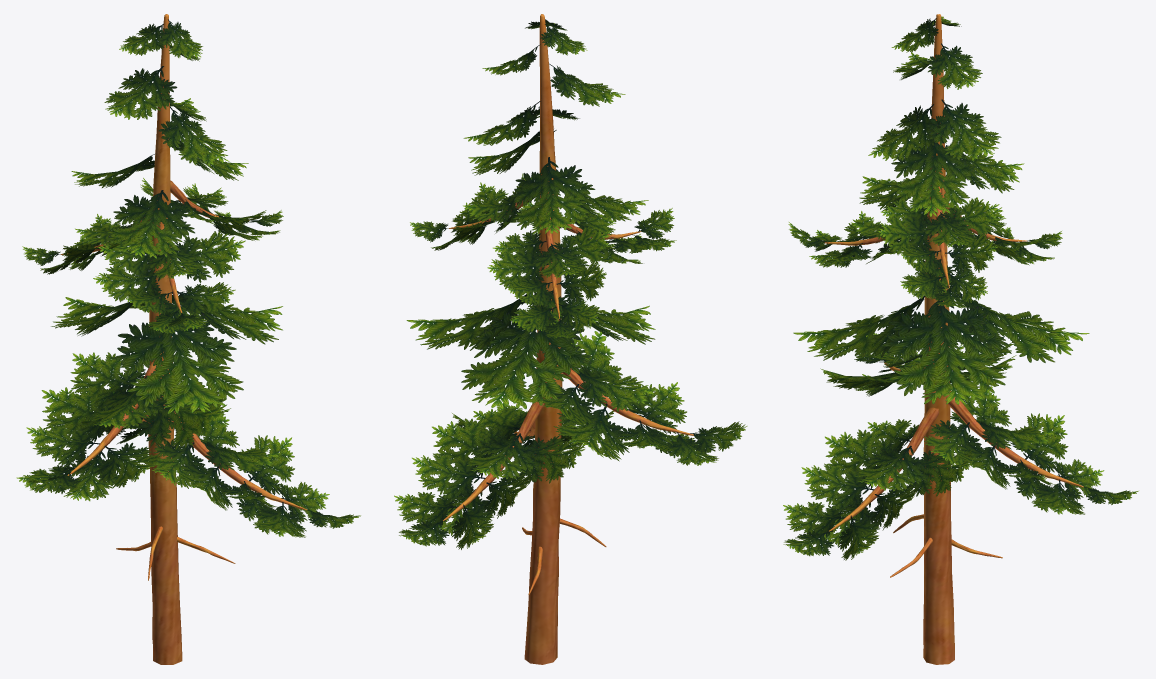
File: small_stylized_pine_var2.glb
The picture shows the model from 3 angles, left to right: view 1: azimuth 30°, elevation 25°; view 2: azimuth 150°, elevation 25°; view 3: azimuth 270°, elevation 25°; orthographic projection.
Visible parts, largest first — view 1: small_stylized_pine_var2; view 2: small_stylized_pine_var2; view 3: small_stylized_pine_var2.
Boxes of the visible parts, <box> form: small_stylized_pine_var2: <box>16,14,360,664</box>; small_stylized_pine_var2: <box>394,14,747,664</box>; small_stylized_pine_var2: <box>783,14,1138,664</box>.
Size of the model in its own units: 409 by 832 by 425.
2 materials, 2 textured.
